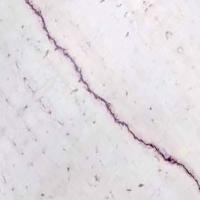crack: (27, 0, 199, 193)
